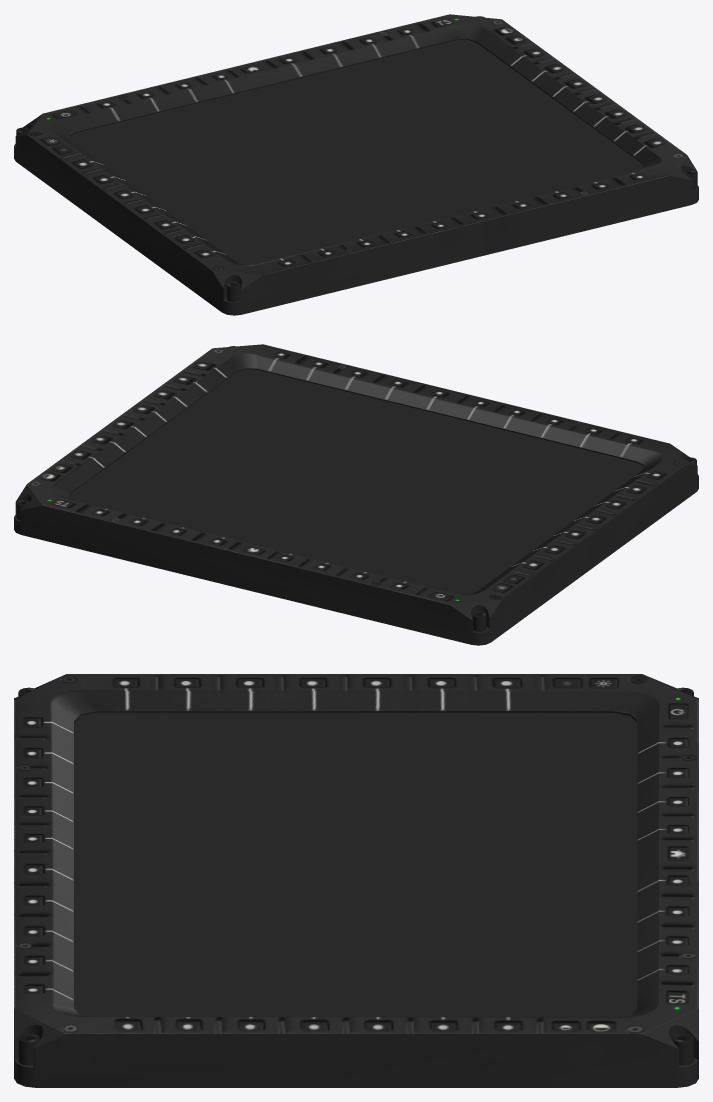
File: RDU-3138.glb
3 views of the same model, one above another, from view 1: azimuth 30°, elevation 25°; view 2: azimuth 150°, elevation 25°; view 3: azimuth 270°, elevation 25° (orthographic). The views are drawn at different scales.
Visible parts, largest first — view 1: screen, RDU-3138-TS.5_output; view 2: screen, RDU-3138-TS.5_output; view 3: screen, RDU-3138-TS.5_output.
Part boxes in pixels (bbox=[...]): screen: bbox=[70, 39, 643, 264]; RDU-3138-TS.5_output: bbox=[14, 14, 698, 315]; screen: bbox=[70, 369, 643, 594]; RDU-3138-TS.5_output: bbox=[14, 344, 698, 645]; screen: bbox=[74, 713, 637, 1016]; RDU-3138-TS.5_output: bbox=[14, 674, 698, 1087].
Size of the model in its own units: 0.3606 by 0.0251 by 0.2899.
2 materials, 1 textured.
